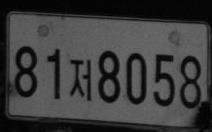0: (124, 52, 148, 105)
1: (43, 48, 68, 100)
5: (152, 53, 175, 107)
8: (13, 44, 38, 98), (96, 50, 121, 103), (179, 54, 202, 109)
저: (69, 59, 91, 101)
